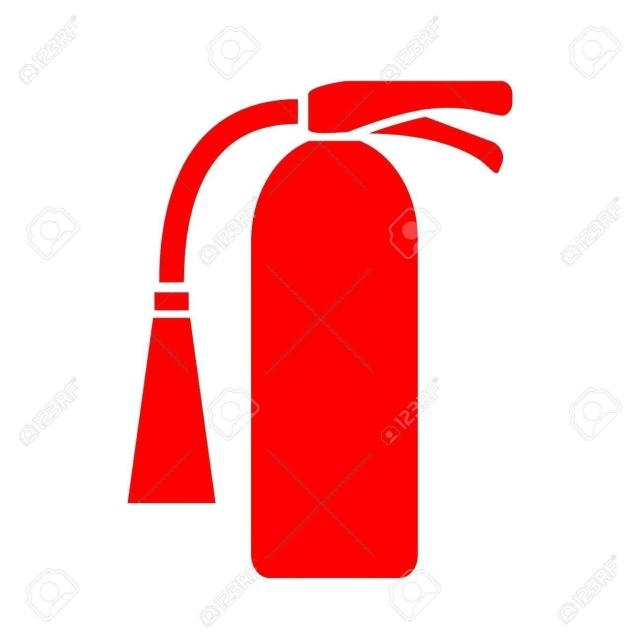fire_extinguisher: (118, 74, 516, 588)
